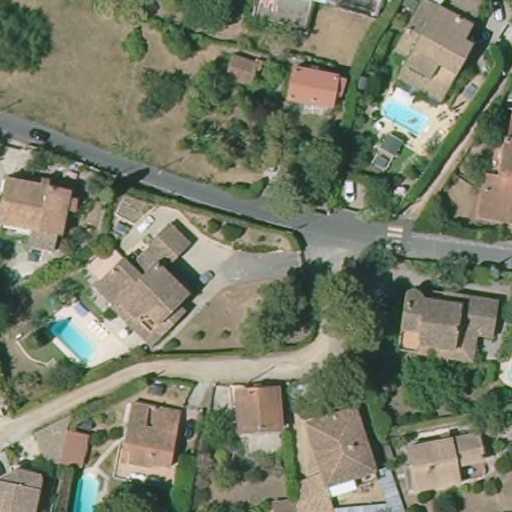pool: (377, 93, 433, 139), (47, 315, 100, 361), (71, 468, 105, 512)
